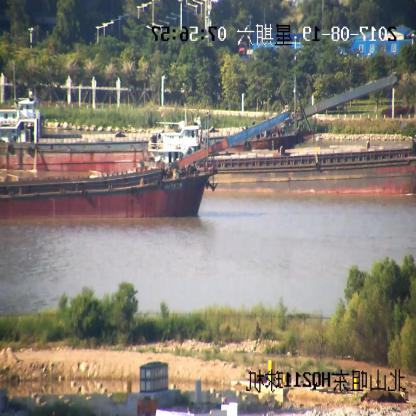Bulk Carrier: (0, 74, 399, 153), (1, 114, 288, 221), (215, 136, 416, 196)
